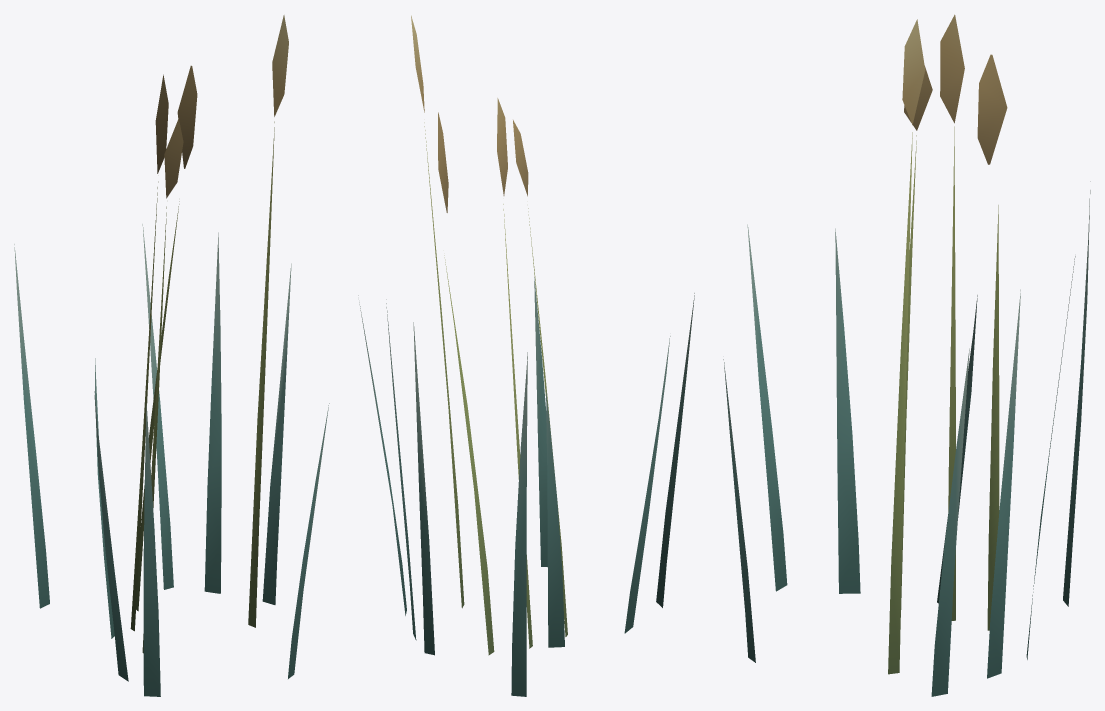
Rendered from MarshReed_LOD0.glb.
3 renders of one model, left to right at view 1: azimuth 30°, elevation 25°; view 2: azimuth 150°, elevation 25°; view 3: azimuth 270°, elevation 25°, orthographic. The views are drawn at different scales.
Parts seen in each view (by area): view 1: MarshReed_LOD0; view 2: MarshReed_LOD0; view 3: MarshReed_LOD0.
Part boxes in pixels (x1,y1,x2,y2): MarshReed_LOD0: [14, 15, 329, 696]; MarshReed_LOD0: [358, 15, 694, 696]; MarshReed_LOD0: [723, 14, 1090, 696].
Bounding box in the file's own units: 0.266 × 0.593 × 0.2893.
